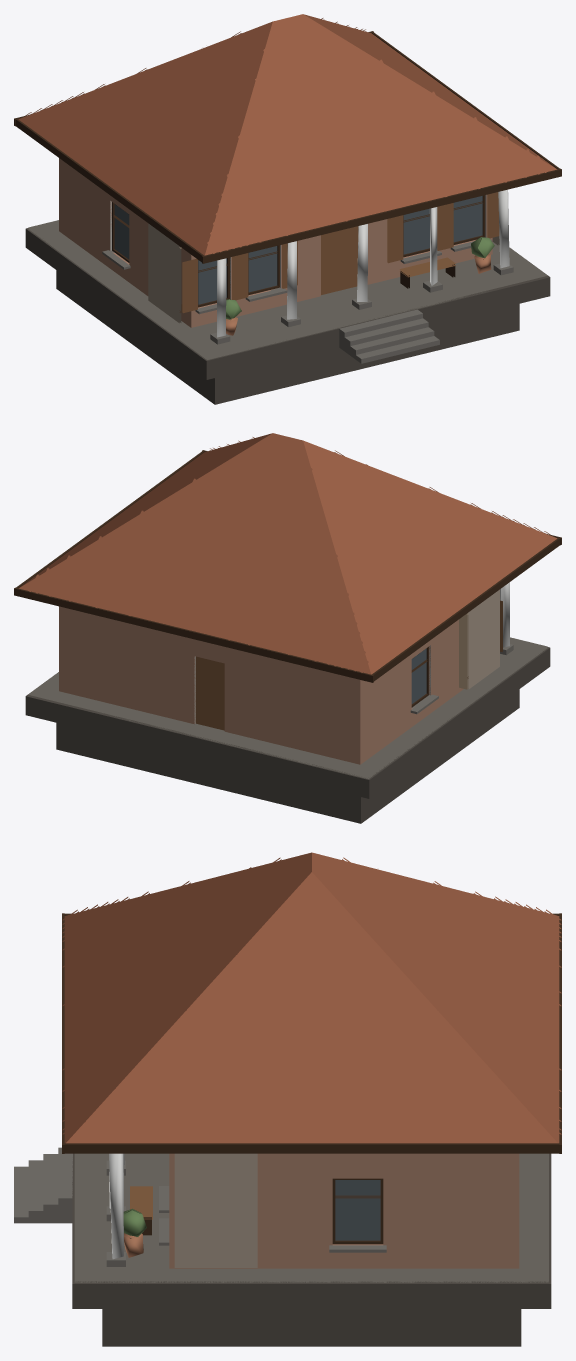
The model's file is bungalow_10x9_1_far.glb.
The picture shows the model from 3 angles, top to bottom: view 1: azimuth 30°, elevation 25°; view 2: azimuth 150°, elevation 25°; view 3: azimuth 270°, elevation 25°; orthographic projection. The views are drawn at different scales.
Parts seen in each view (by area): view 1: bungalow_10x9_1; view 2: bungalow_10x9_1; view 3: bungalow_10x9_1.
Boxes of the visible parts, box(x1,y1,x2,y2) form: bungalow_10x9_1: box(14, 14, 561, 404); bungalow_10x9_1: box(14, 433, 561, 823); bungalow_10x9_1: box(14, 852, 561, 1346).
Bounding box in the file's own units: 11.9 × 9.25 × 11.9.
